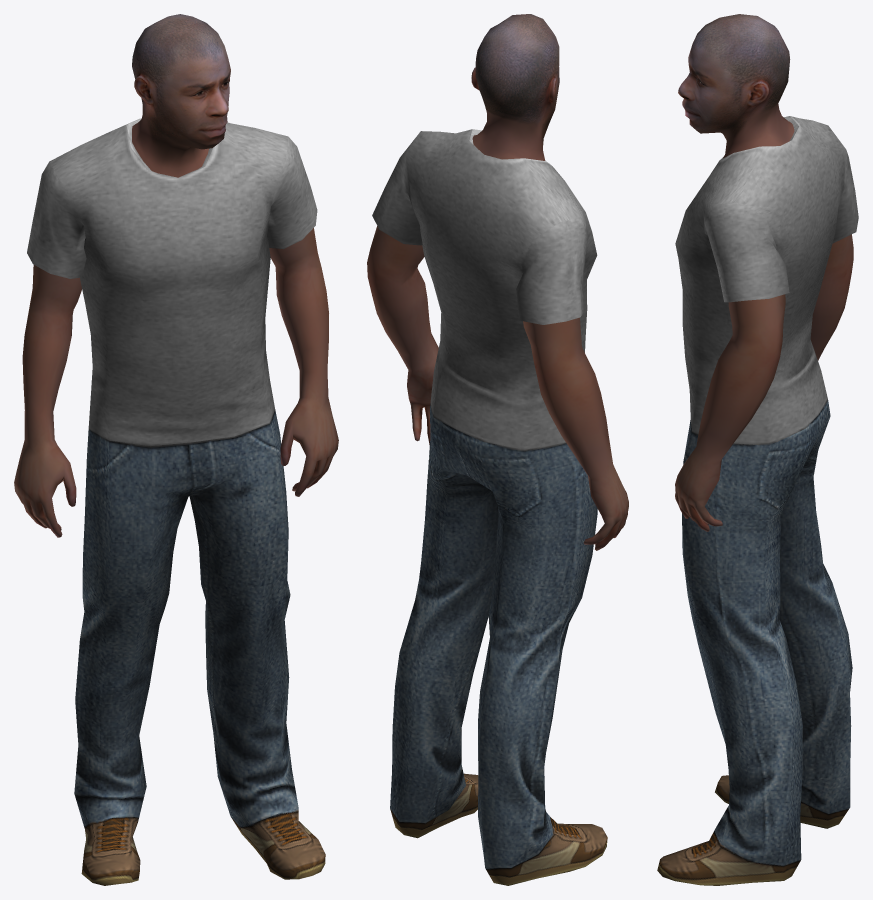
The model's file is average_male.obj.
3 views of the same model, side by side, from view 1: azimuth 30°, elevation 25°; view 2: azimuth 150°, elevation 25°; view 3: azimuth 270°, elevation 25° (orthographic). The views are drawn at different scales.
Visible parts, largest first — view 1: body_retopo01; view 2: body_retopo01; view 3: body_retopo01.
Part boxes in pixels (x1=…): body_retopo01: x1=14, y1=14, x2=338, y2=885; body_retopo01: x1=367, y1=14, x2=628, y2=885; body_retopo01: x1=657, y1=14, x2=858, y2=885.
Size of the model in its own units: 64.07 by 188 by 41.85.
Materials: 2 (2 with a texture image).
